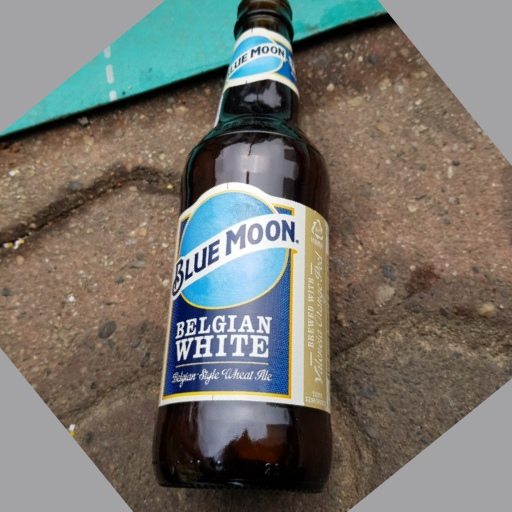Glass_1: (157, 3, 339, 497)
